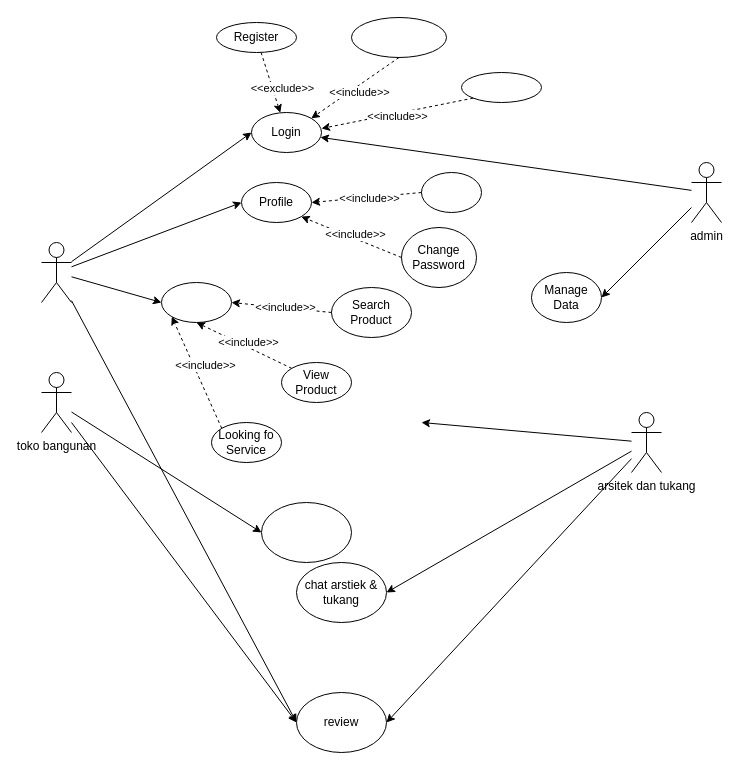
The diagram is 740 pixels wide and 770 high, and some of its shapes have lost their labels. The shapes that lost their labels are listed below. From the top down, each one's centre as x and y in pixels, then its label:
(398,37): Login With Google
(501,87): Forgot Password
(451,192): Edit Profile
(56,272): customer
(196,302): Home
(306,532): chat toko bangunan
